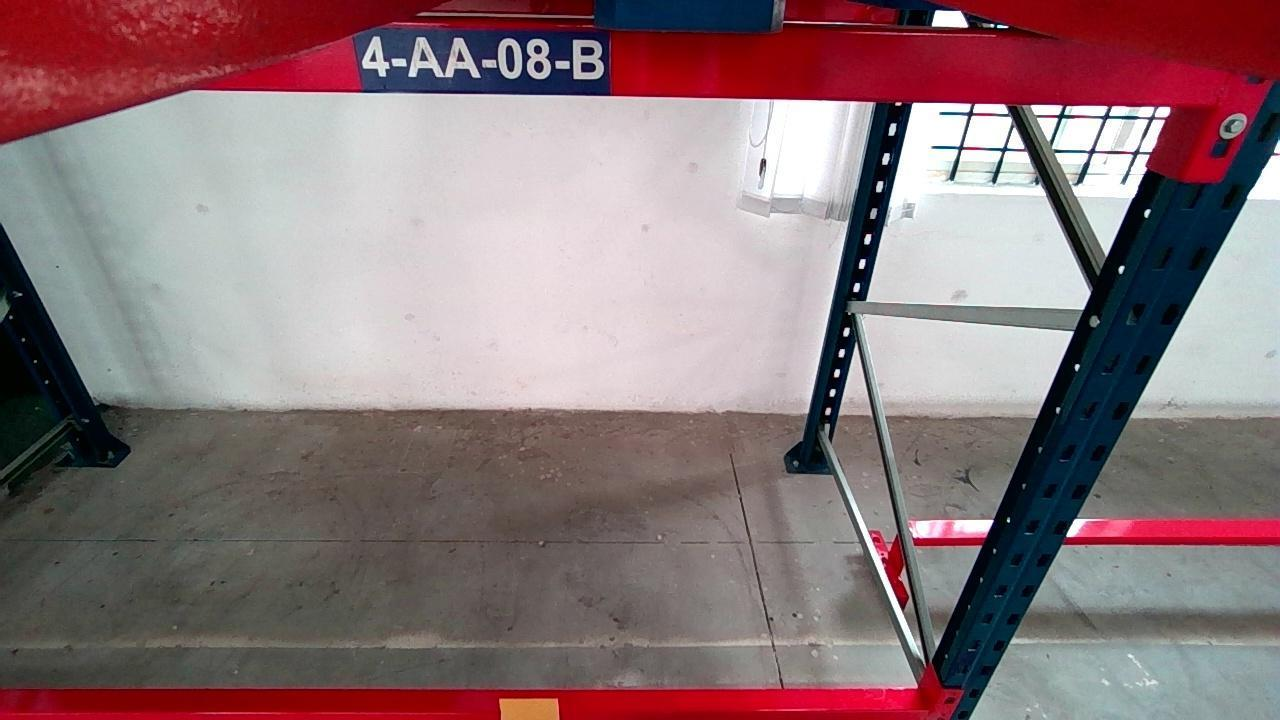h_rack: (192, 22, 1234, 104)
orange_strip: (498, 698, 557, 720)
